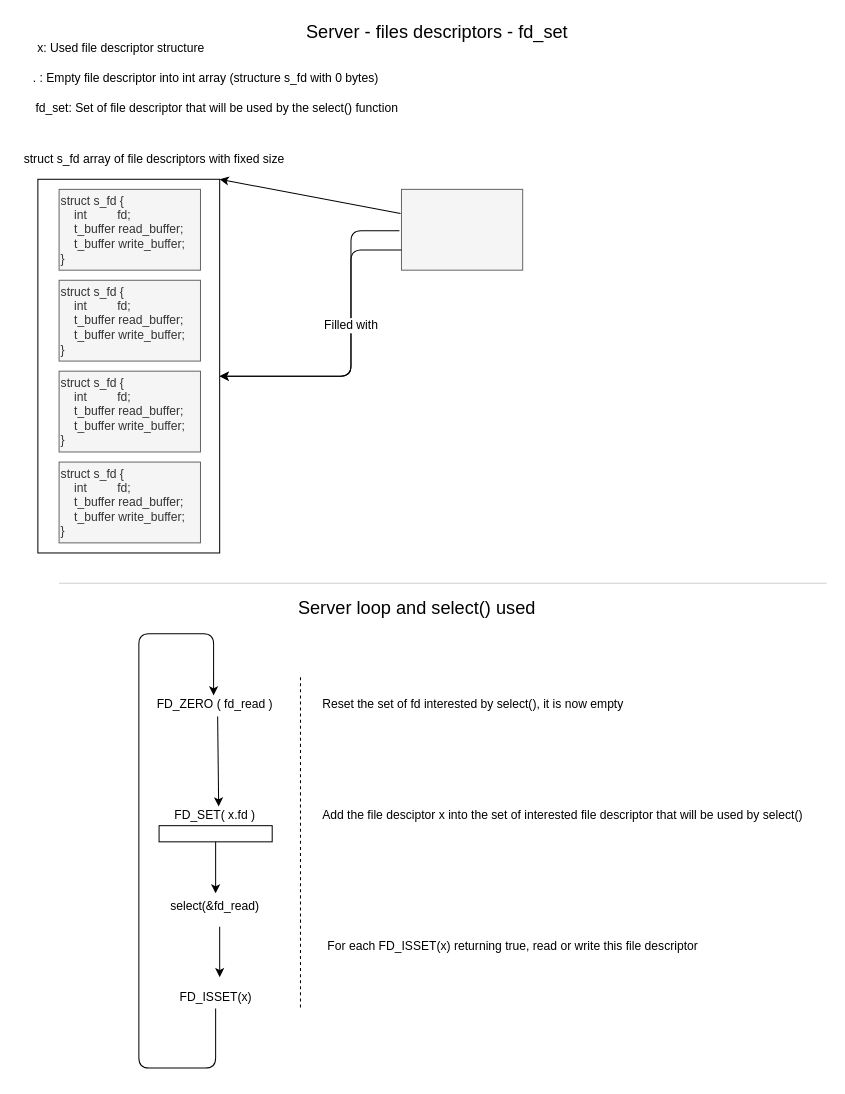
Some shapes in this 845 by 1094 pixel diagram are drawn without their labels. The centre of each missing label's shape, as x and y in pixels:
"struct s_server { t_fd * fds fd_set fd_read; fd_set fd_write; }" belongs at point (461, 229).
"x x x x . x x . x x ." belongs at point (215, 833).
